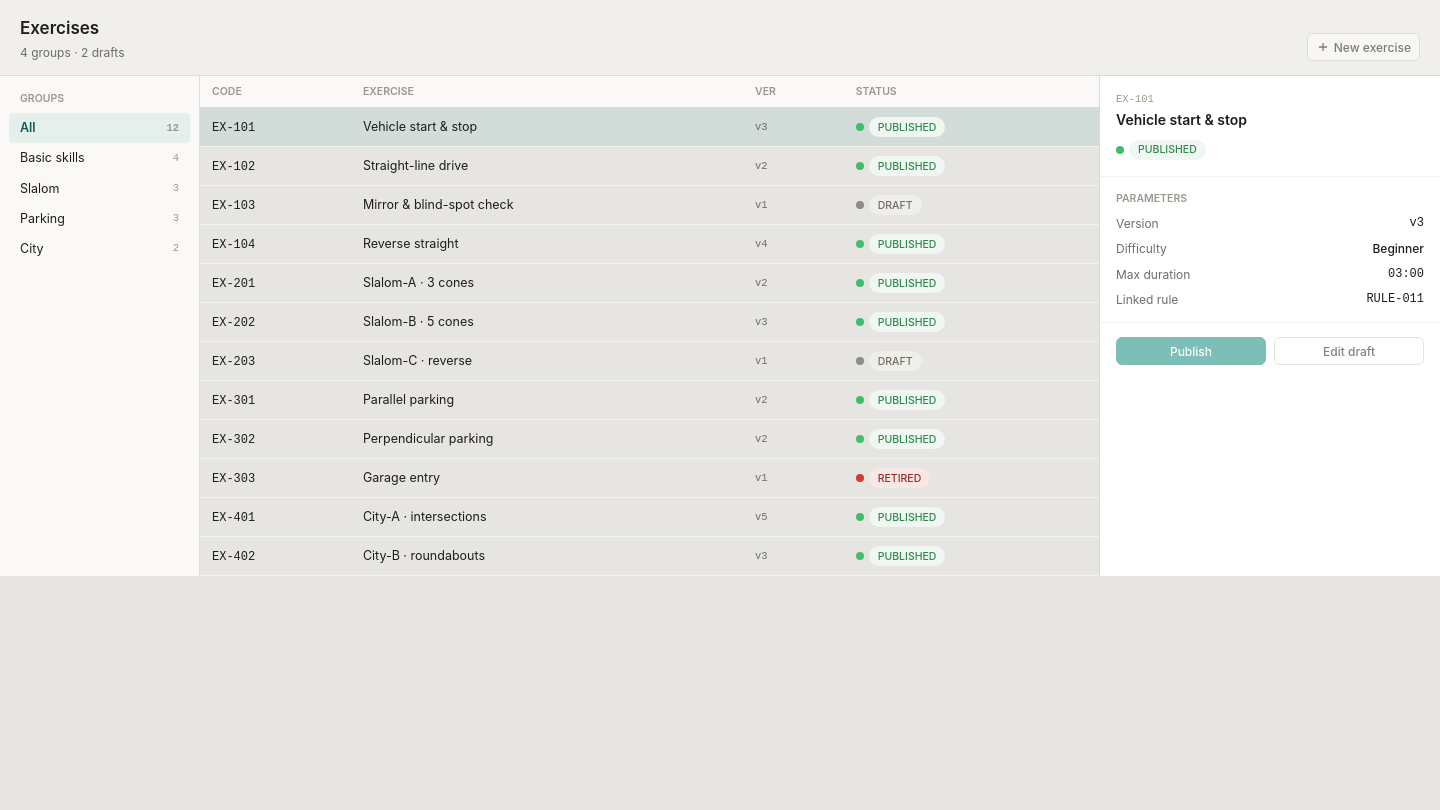
ExercisesScreen › filters catalog by selecting a group
Click the button "Slalom 3". click: x=100, y=189
box: [9,174,190,204]
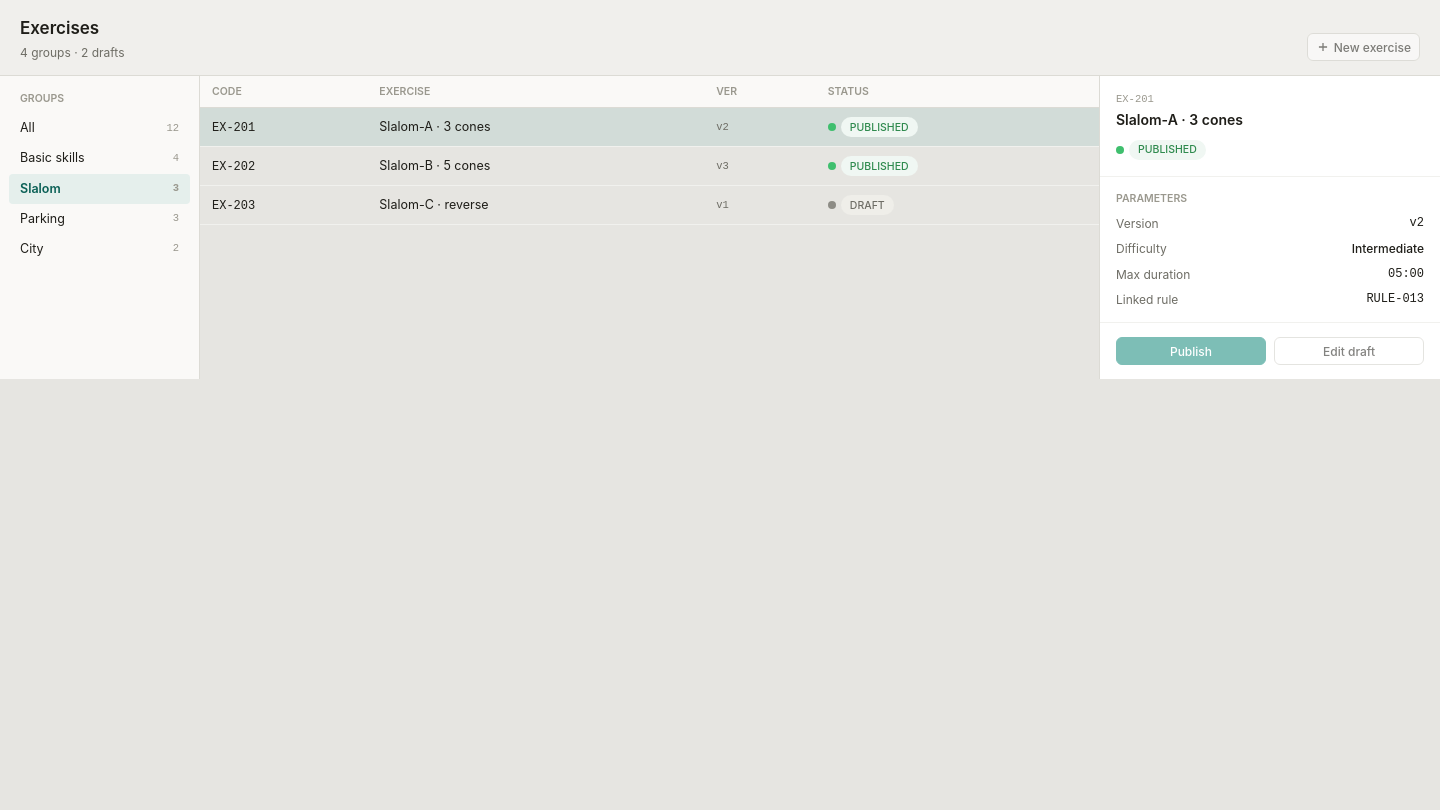
Expected: the button "EX-201" is shown, [212,120,255,137]
Now the button "EX-101" is gone
Now the button "EX-301" is gone
